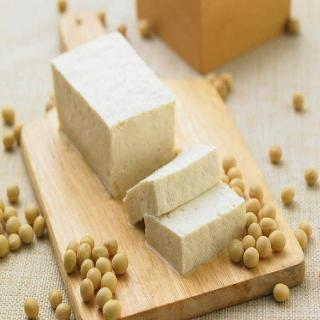Tahu: (39, 37, 259, 269)
